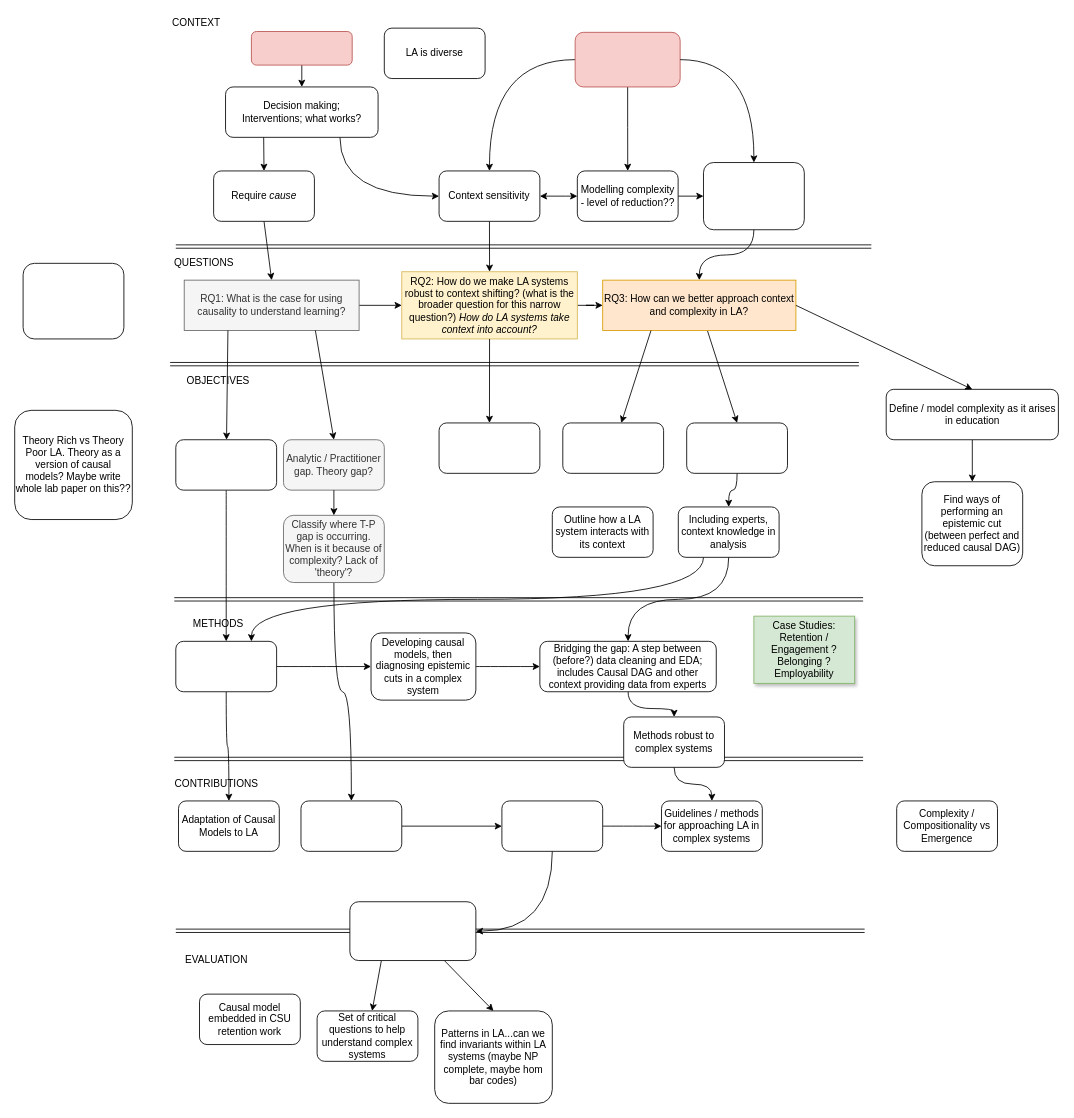
Image size: 1074x1118. Some labels were removed from this diagram. The centre of each missing label's shape, as x and y in pixels:
Addressing robustness to shifting context (transparency): (x=613, y=447)
Better questions to ask of a complex LA system: (x=412, y=931)
Causal models & equivalents as a way of framing exogenous knowledge / theory: (x=226, y=666)
Causality might be framed more generally as exogenous framing / theory?: (x=73, y=300)
Communicate uncertainty and assumptions to practitioners: (x=737, y=447)
Confusion in communication and decision making around complex LA systems: (x=753, y=196)
Defining the Theory - Practitioner gap: (x=351, y=825)
Existing state?? Lit review: (x=489, y=447)
Learning is complex: (x=627, y=59)
Mathematical framework for embedding 'context' in analysis: (x=552, y=825)
Outline and examples of using causal models in LA. Simulated and real?: (x=226, y=464)
Purpose of analysing learning?: (x=301, y=48)
